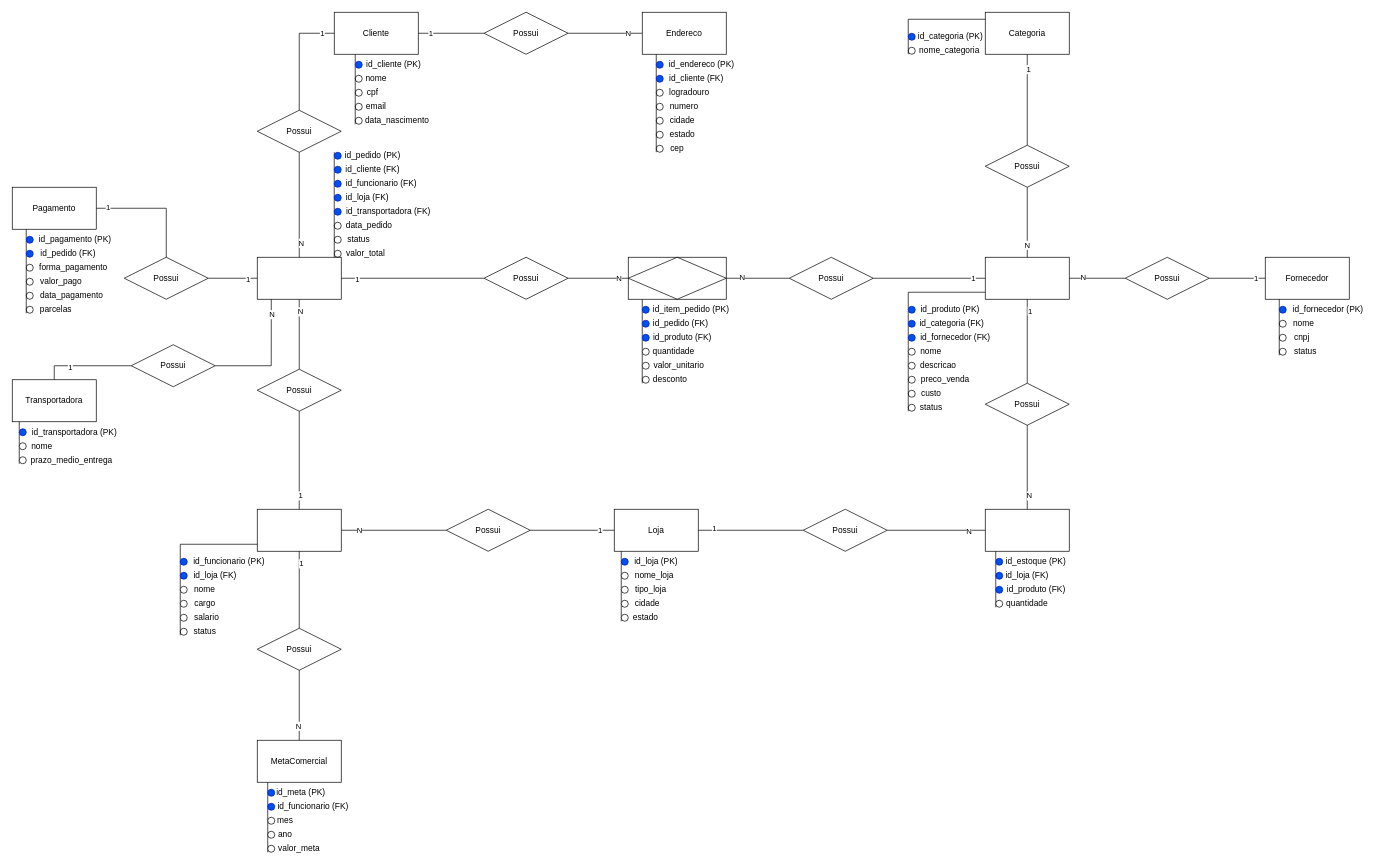
Image size: 1383x866. Some labels were removed from this diagram. Here are the shapes that lost their labels. From the top down, the centre of each, then its label:
point (299, 278): Pedido
point (677, 278): ItemPedido
point (1027, 278): Produto
point (299, 530): Funcionario
point (1027, 530): Estoque
